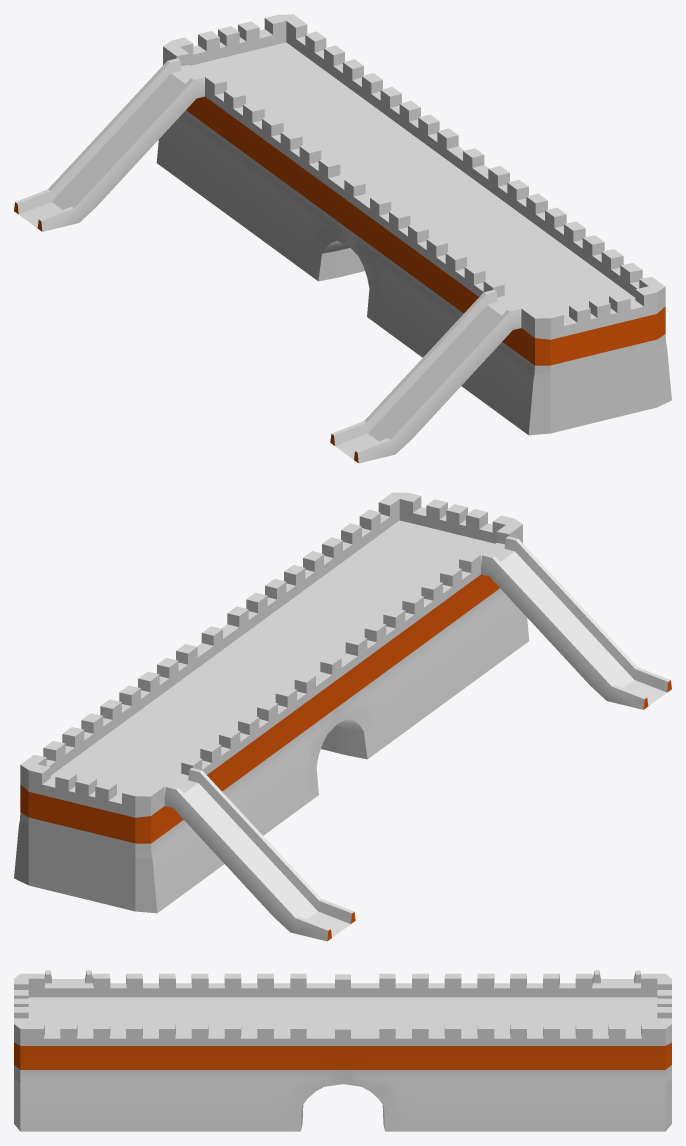
The model's file is Gate.fbx.
3 views of the same model, one above another, from view 1: azimuth 30°, elevation 25°; view 2: azimuth 150°, elevation 25°; view 3: azimuth 270°, elevation 25° (orthographic). The views are drawn at different scales.
Visible parts, largest first — view 1: BlueGate; view 2: BlueGate; view 3: BlueGate.
Part boxes in pixels (<box>): BlueGate: <box>14,14,671,463</box>; BlueGate: <box>14,492,671,941</box>; BlueGate: <box>14,970,671,1131</box>.
Size of the model in its own units: 939 by 428 by 157.
